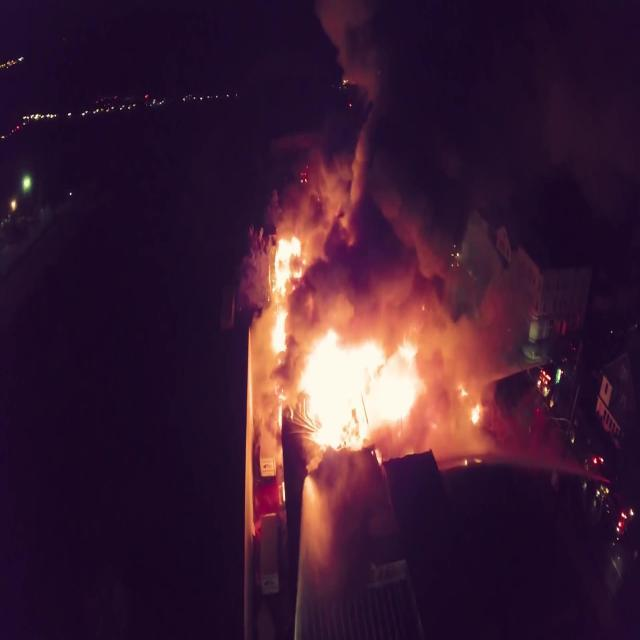Fire: (284, 324, 488, 448), (268, 224, 301, 354)
Smoke: (216, 0, 640, 291)
